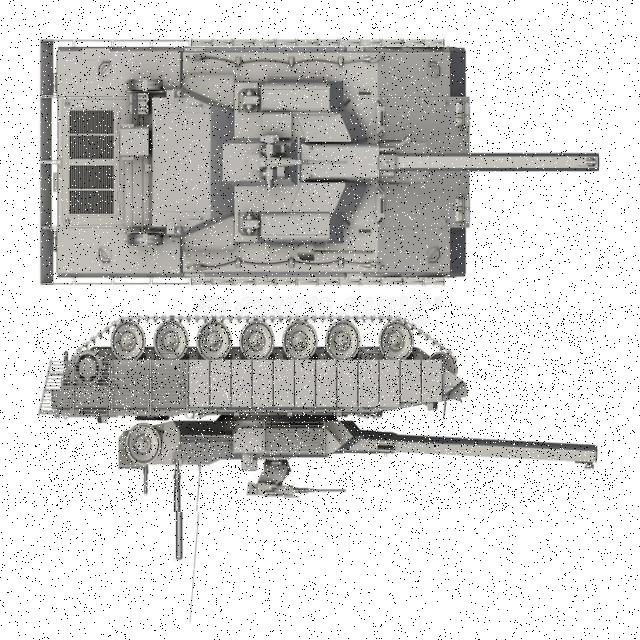MIL_MBT: (33, 25, 613, 286), (33, 305, 613, 512)
